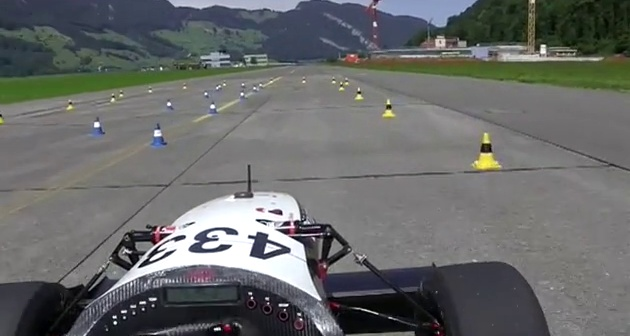Cone: (470, 131, 504, 172), (149, 121, 169, 148), (88, 116, 106, 138), (380, 96, 397, 117), (352, 85, 365, 101), (207, 98, 219, 115)
